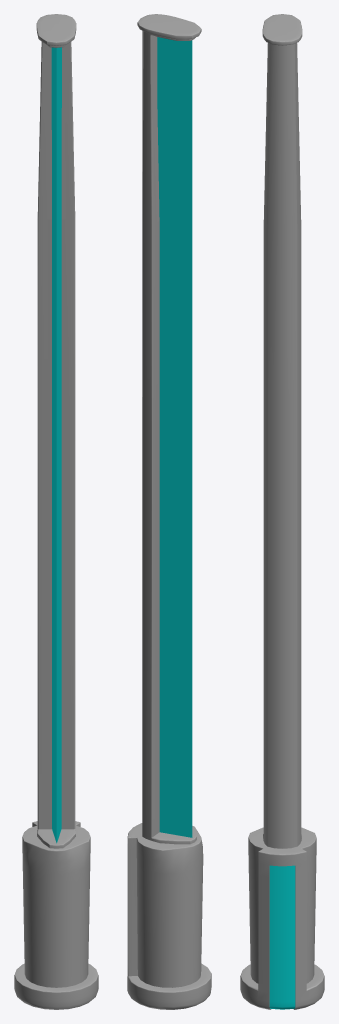
Rendered from Sword.fbx.
3 renders of one model, left to right at view 1: azimuth 90°, elevation 25°; view 2: azimuth 150°, elevation 25°; view 3: azimuth 270°, elevation 25°, orthographic.
Visible parts, largest first — view 1: Hilt, Blade; view 2: Hilt, Blade; view 3: Hilt, Light.
Part boxes in pixels (x1,y1,x2,y2): Hilt: (14, 14, 98, 1009); Blade: (51, 47, 61, 843); Hilt: (127, 14, 211, 1009); Blade: (157, 37, 192, 837); Hilt: (240, 14, 324, 1009); Light: (269, 865, 295, 1009).
Size of the model in its own units: 7.62 by 96.43 by 7.62.
